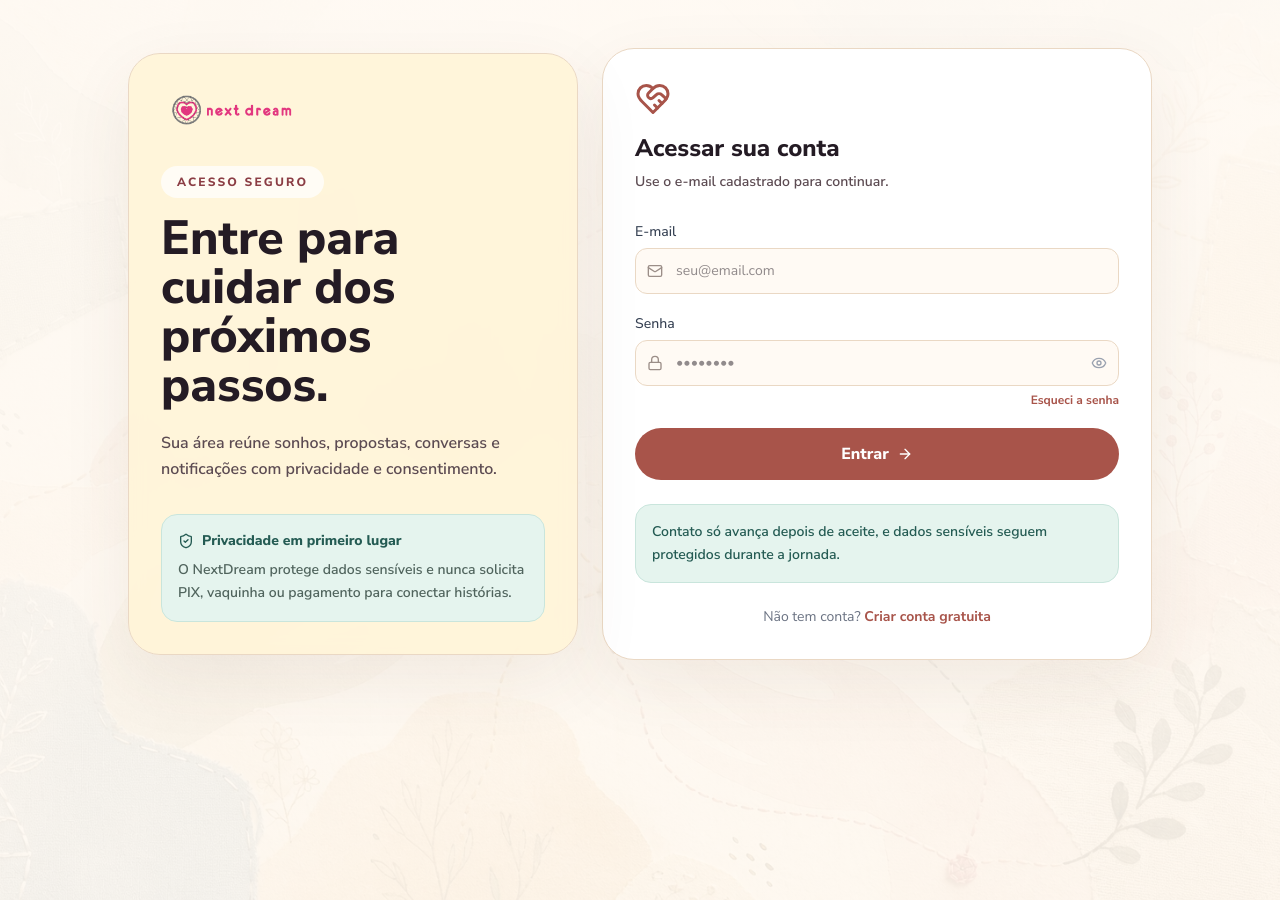
Test case: Login › shows activation guidance when the backend blocks login for an unverified account
In the field with placeholder "seu@email.com": (877, 271) top-left (635, 248), bottom-right (1119, 294), type "casa@example.com"
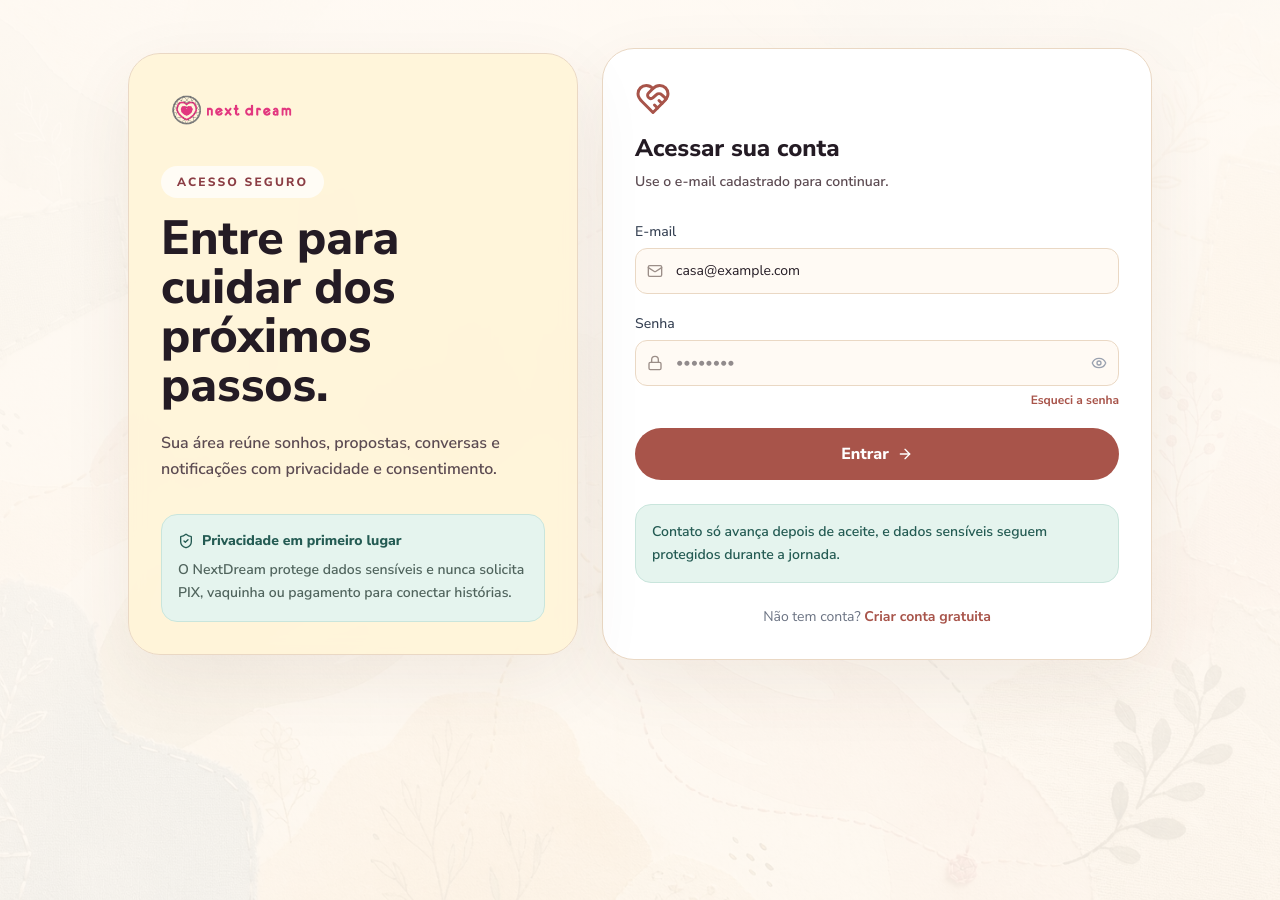
In the password field with placeholder "••••••••": (877, 363) top-left (635, 340), bottom-right (1119, 386), type "Secret123!"
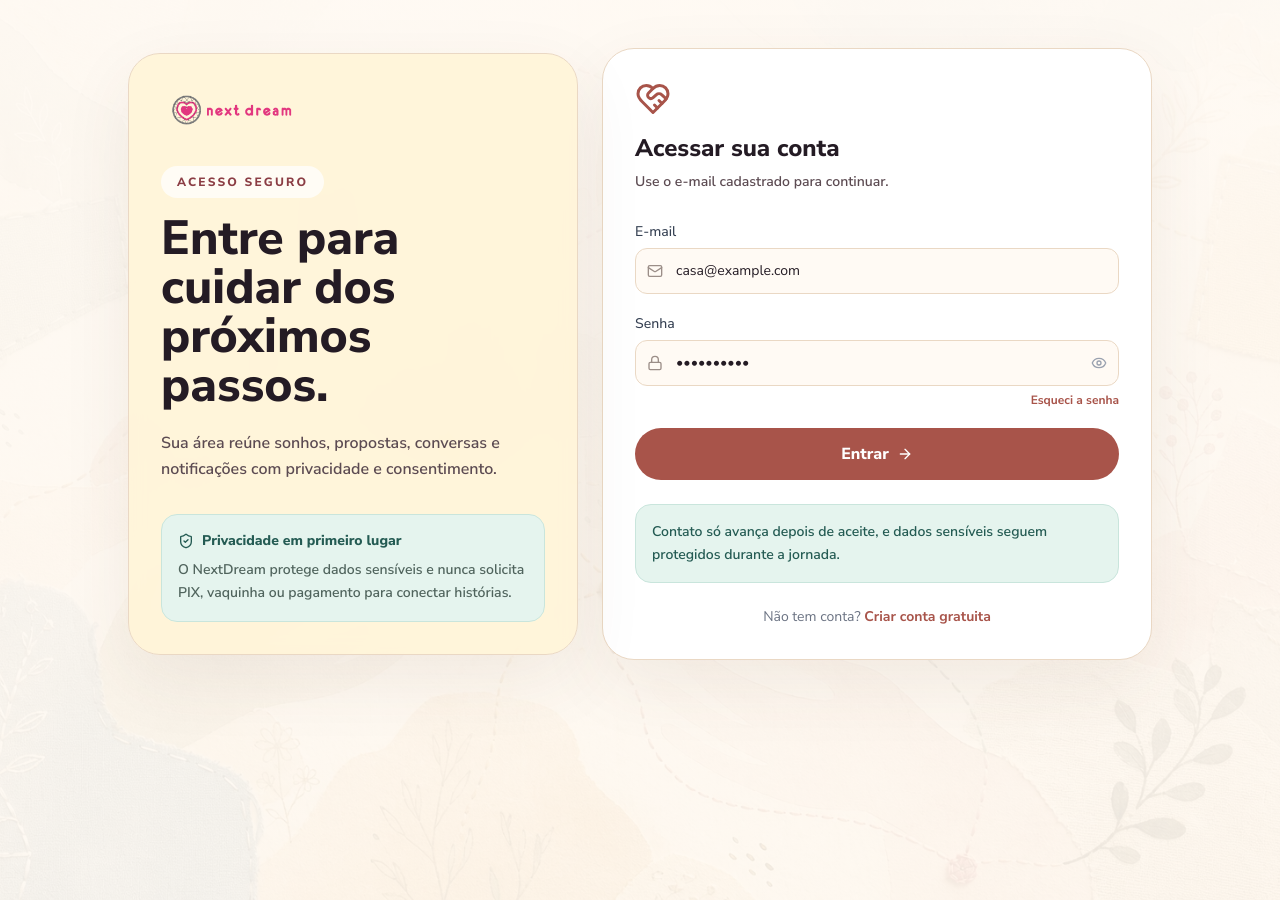
Click the button "Entrar": (877, 454) top-left (635, 428), bottom-right (1119, 480)
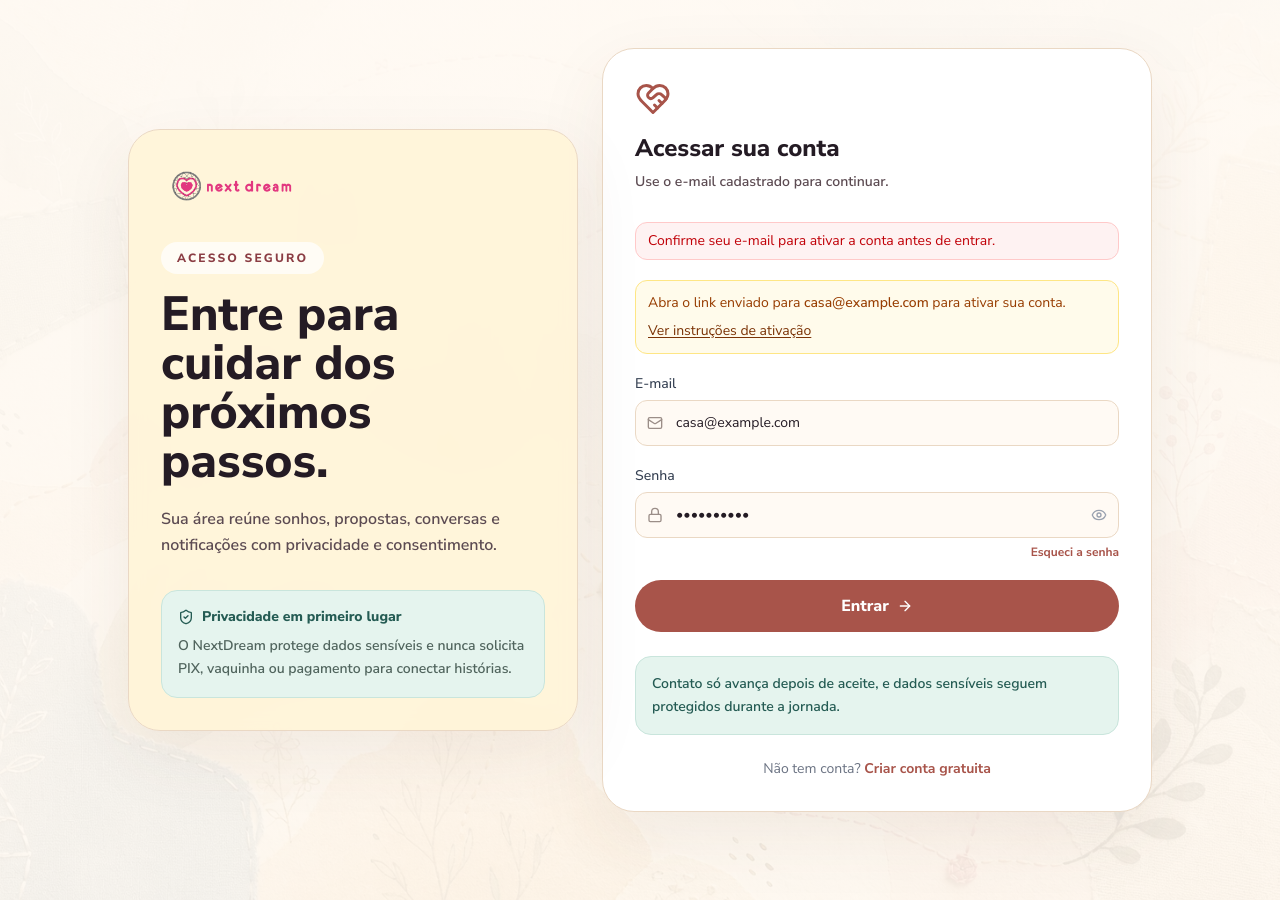
Check: the text "Confirme seu e-mail para ativar a conta antes de entrar." is shown, box top-left (635, 222), bottom-right (1119, 260)
